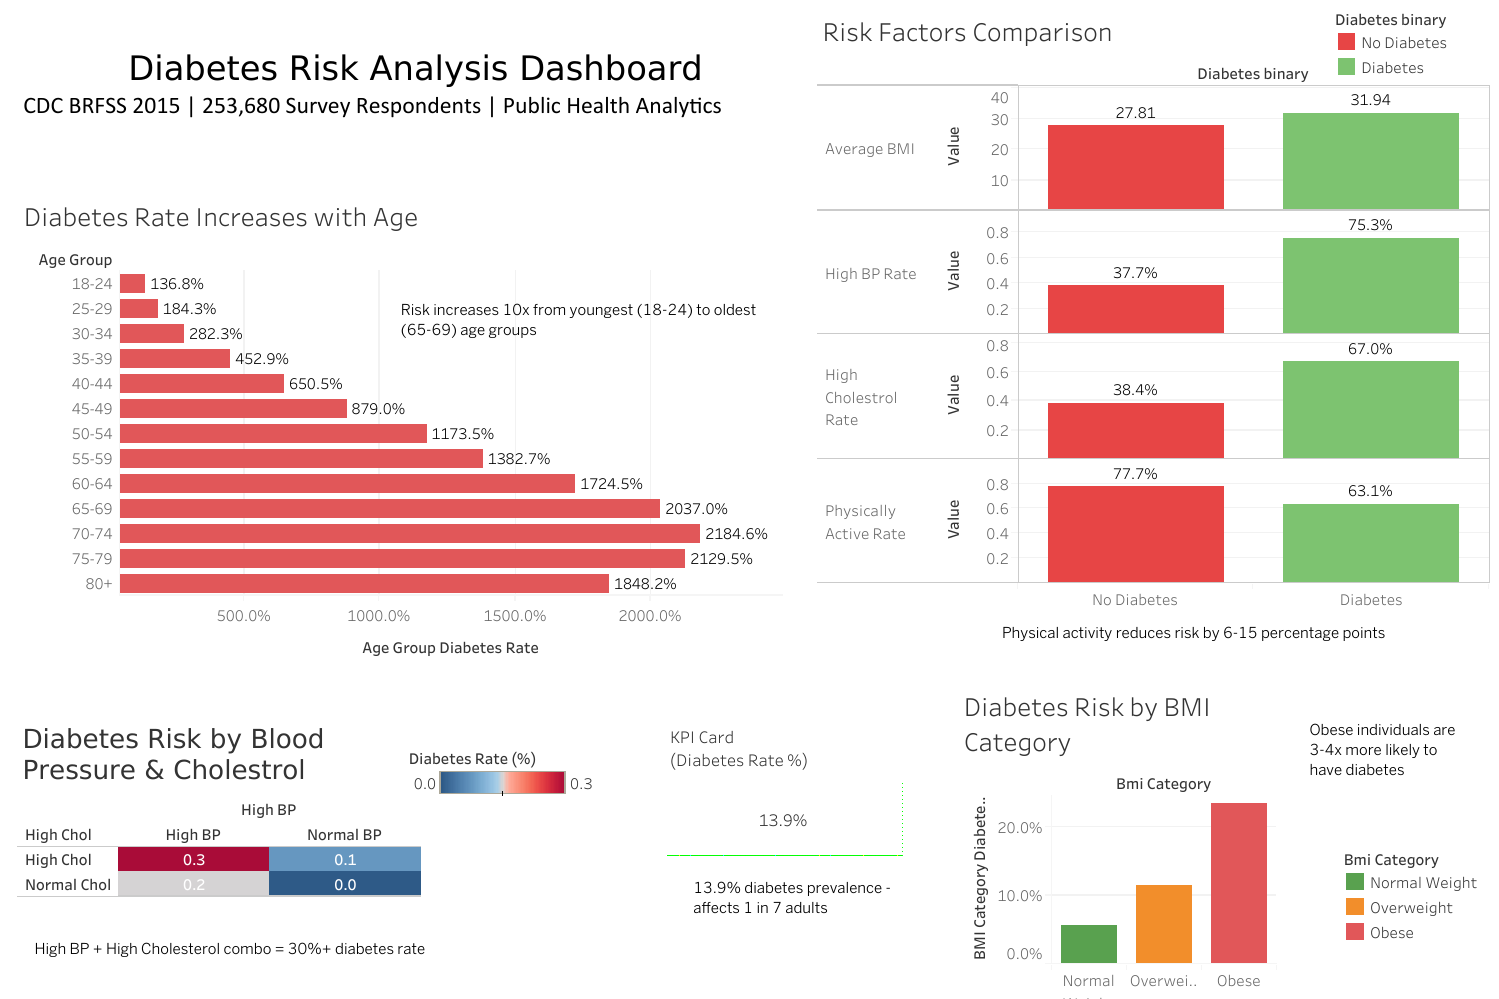

What the dashboard file says about the page in this screenshot:
{"tool":"tableau","page":{"name":"Dashboard 1","canvas":[1200,800],"ordinal":0},"visuals":[{"type":"legend","title":"Risk Factors Comparison","param":"[federated.1cb9q801ta8xu61f0cade1xuz3lu].[none:Diabetes_binary:nk]","box":[1067.4,4.2,123,66.7]},{"type":"worksheet","title":"Risk Factors Comparison","mark":"Bar","cols":["Diabetes_binary"],"box":[654.5,5.2,537.6,483.3]},{"type":"text","box":[15.8,13.5,633.4,100]},{"type":"worksheet","title":"Diabetes Rate by Age Group","mark":"Automatic","rows":["age_group"],"cols":["Calculation_1155340746498052"],"box":[15,153,611,436]},{"type":"text","box":[318,212,297,88]},{"type":"text","box":[799,491,391,30]},{"type":"text","box":[1045,542,127,115]},{"type":"worksheet","title":"KPI Summary Cards","mark":"Automatic","box":[532,573,189,110]},{"type":"legend","title":"Risk Heatmap","param":"[federated.1cb9q801ta8xu61f0cade1xuz3lu].[usr:Calculation_1155340740694018:qk]","box":[327,593,152,92]},{"type":"legend","title":"BMI Analysis","param":"[federated.1cb9q801ta8xu61f0cade1xuz3lu].[none:bmi_category:nk]","box":[1074,676,122,89]},{"type":"text","box":[552,680,172,75]},{"type":"text","box":[25,729,405,60]}]}

Visuals, with their boxes in screenshot pixels (x1, y1, x2, y2), scaled from the page's 1200x800 canvas onto the 1499x999 screenshot:
"Risk Factors Comparison" legend: rect(1333, 5, 1487, 89)
"Risk Factors Comparison" worksheet (Bar marks): rect(818, 6, 1489, 610)
text: rect(20, 17, 811, 142)
"Diabetes Rate by Age Group" worksheet: rect(19, 191, 782, 736)
text: rect(397, 265, 768, 375)
text: rect(998, 613, 1487, 651)
text: rect(1305, 677, 1464, 820)
"KPI Summary Cards" worksheet: rect(665, 716, 901, 853)
"Risk Heatmap" legend: rect(408, 741, 598, 855)
"BMI Analysis" legend: rect(1342, 844, 1494, 955)
text: rect(690, 849, 904, 943)
text: rect(31, 910, 537, 985)
